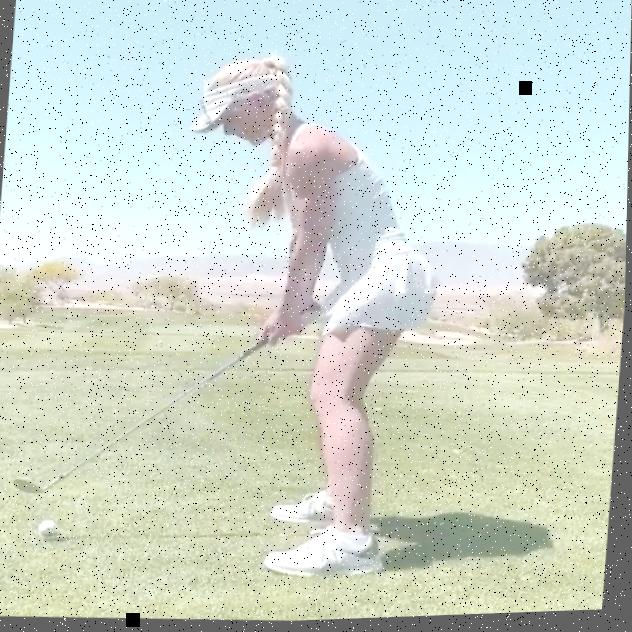ClubHead: (14, 477, 46, 496)
GolfBall: (40, 520, 59, 537)
